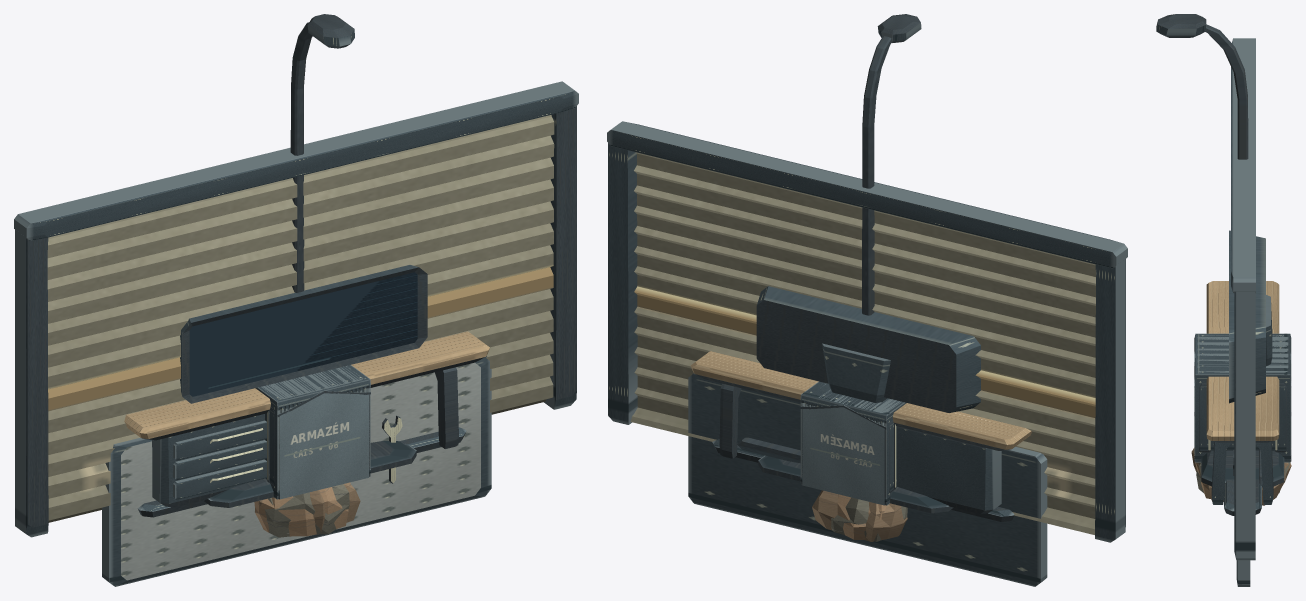
The model's file is distritos.glb.
3 renders of one model, left to right at view 1: azimuth 30°, elevation 25°; view 2: azimuth 150°, elevation 25°; view 3: azimuth 270°, elevation 25°, orthographic. The views are drawn at different scales.
Visible parts, largest first — view 1: porta_enrolar, painel_ferramentas, terminal, bancada, galpao, poste, conteiner, morro, rocha_1, caixa_carga, luminaria, rocha_2; view 2: porta_enrolar, painel_ferramentas, terminal, bancada, galpao, poste, conteiner, rocha_2, rocha_1, luminaria, morro; view 3: porta_enrolar, bancada, conteiner, terminal, poste, caixa_carga, luminaria, painel_ferramentas, rocha_2, morro.
Boxes of the visible parts, box(x1,y1,x2,y2) form: porta_enrolar: box(14, 81, 578, 537); painel_ferramentas: box(102, 356, 491, 586); terminal: box(180, 265, 427, 507); bancada: box(124, 331, 489, 507); galpao: box(277, 390, 370, 499); poste: box(290, 14, 354, 292); conteiner: box(255, 365, 370, 499); morro: box(254, 482, 350, 536); rocha_1: box(264, 484, 349, 537); caixa_carga: box(261, 365, 365, 411); luminaria: box(138, 427, 466, 517); rocha_2: box(254, 482, 360, 534); porta_enrolar: box(607, 121, 1127, 542); painel_ferramentas: box(688, 373, 1047, 586); terminal: box(756, 286, 980, 513); bancada: box(690, 351, 1031, 513); galpao: box(800, 405, 886, 505); poste: box(862, 14, 921, 315); conteiner: box(800, 381, 906, 505); rocha_2: box(812, 490, 907, 541); rocha_1: box(831, 497, 907, 541); luminaria: box(712, 439, 1014, 521); morro: box(837, 494, 886, 539); porta_enrolar: box(1231, 38, 1255, 560); bancada: box(1206, 281, 1279, 504); conteiner: box(1194, 333, 1291, 462); terminal: box(1201, 230, 1284, 486); poste: box(1156, 14, 1248, 159); caixa_carga: box(1197, 335, 1291, 375); luminaria: box(1224, 479, 1261, 515); painel_ferramentas: box(1233, 450, 1250, 586); rocha_2: box(1191, 448, 1285, 505); morro: box(1193, 454, 1291, 498).
Size of the model in its own units: 5.92 by 5.54 by 1.4.
Materials: 3 (3 with a texture image).
